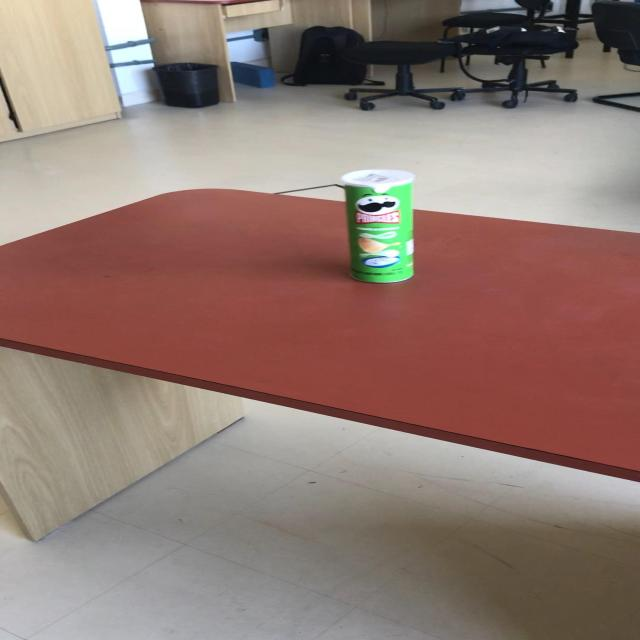a pringles: (338, 168, 416, 283)
